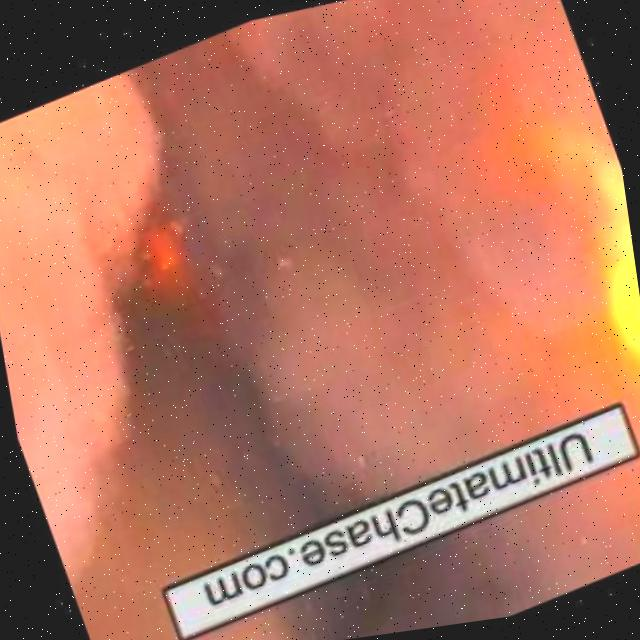fire: (484, 63, 640, 421), (104, 188, 208, 323)
